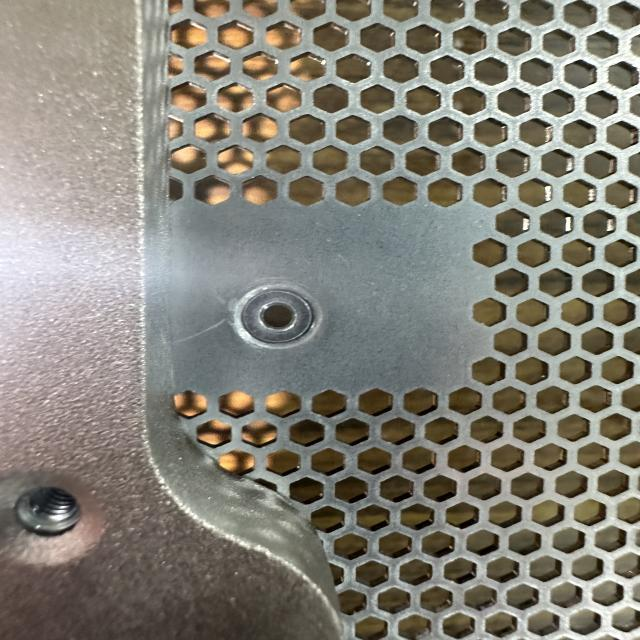Missing screw: (222, 277, 336, 359)
